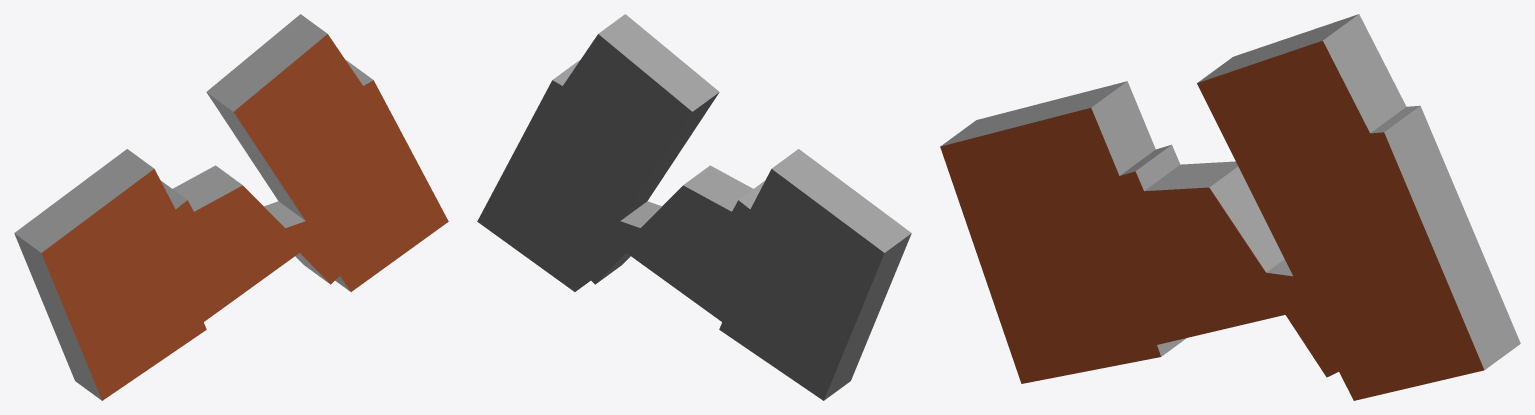
The model's file is construction_6575_assumed_A_Casa_h6m.obj.
3 renders of one model, left to right at view 1: azimuth 30°, elevation 25°; view 2: azimuth 150°, elevation 25°; view 3: azimuth 330°, elevation 25°, orthographic. The views are drawn at different scales.
Parts seen in each view (by area): view 1: construction_6575_assumed_A_Casa; view 2: construction_6575_assumed_A_Casa; view 3: construction_6575_assumed_A_Casa.
Part boxes in pixels (x1,y1,x2,y2): construction_6575_assumed_A_Casa: (14,14,448,400); construction_6575_assumed_A_Casa: (477,14,911,400); construction_6575_assumed_A_Casa: (940,14,1520,400).
Size of the model in its own units: 51.87 by 37.96 by 6.
